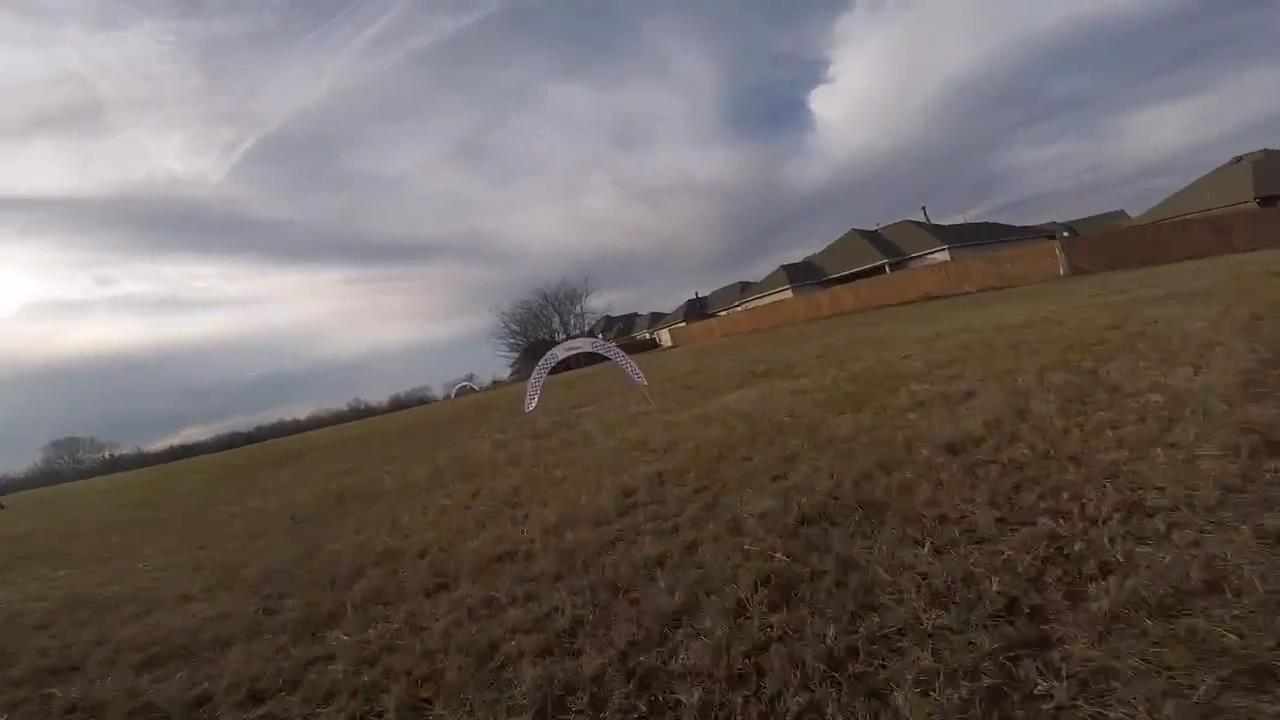gate: (523, 332, 647, 422)
